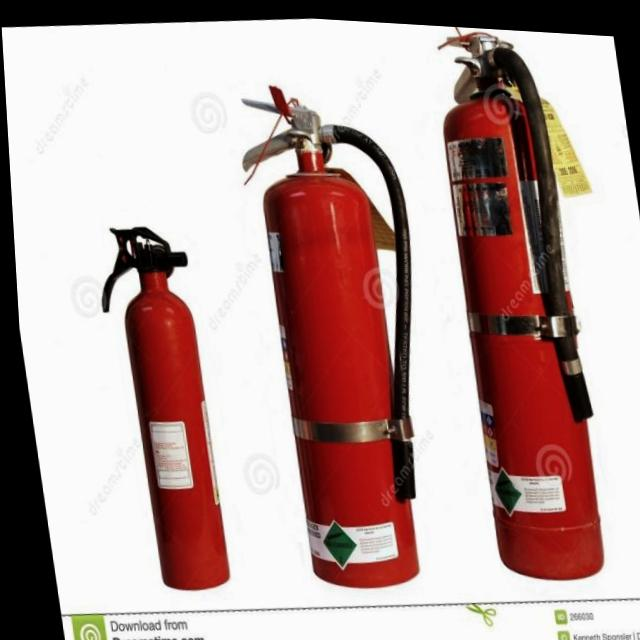FireExtinguisher: (226, 66, 457, 598), (417, 19, 614, 585), (83, 213, 231, 598)
